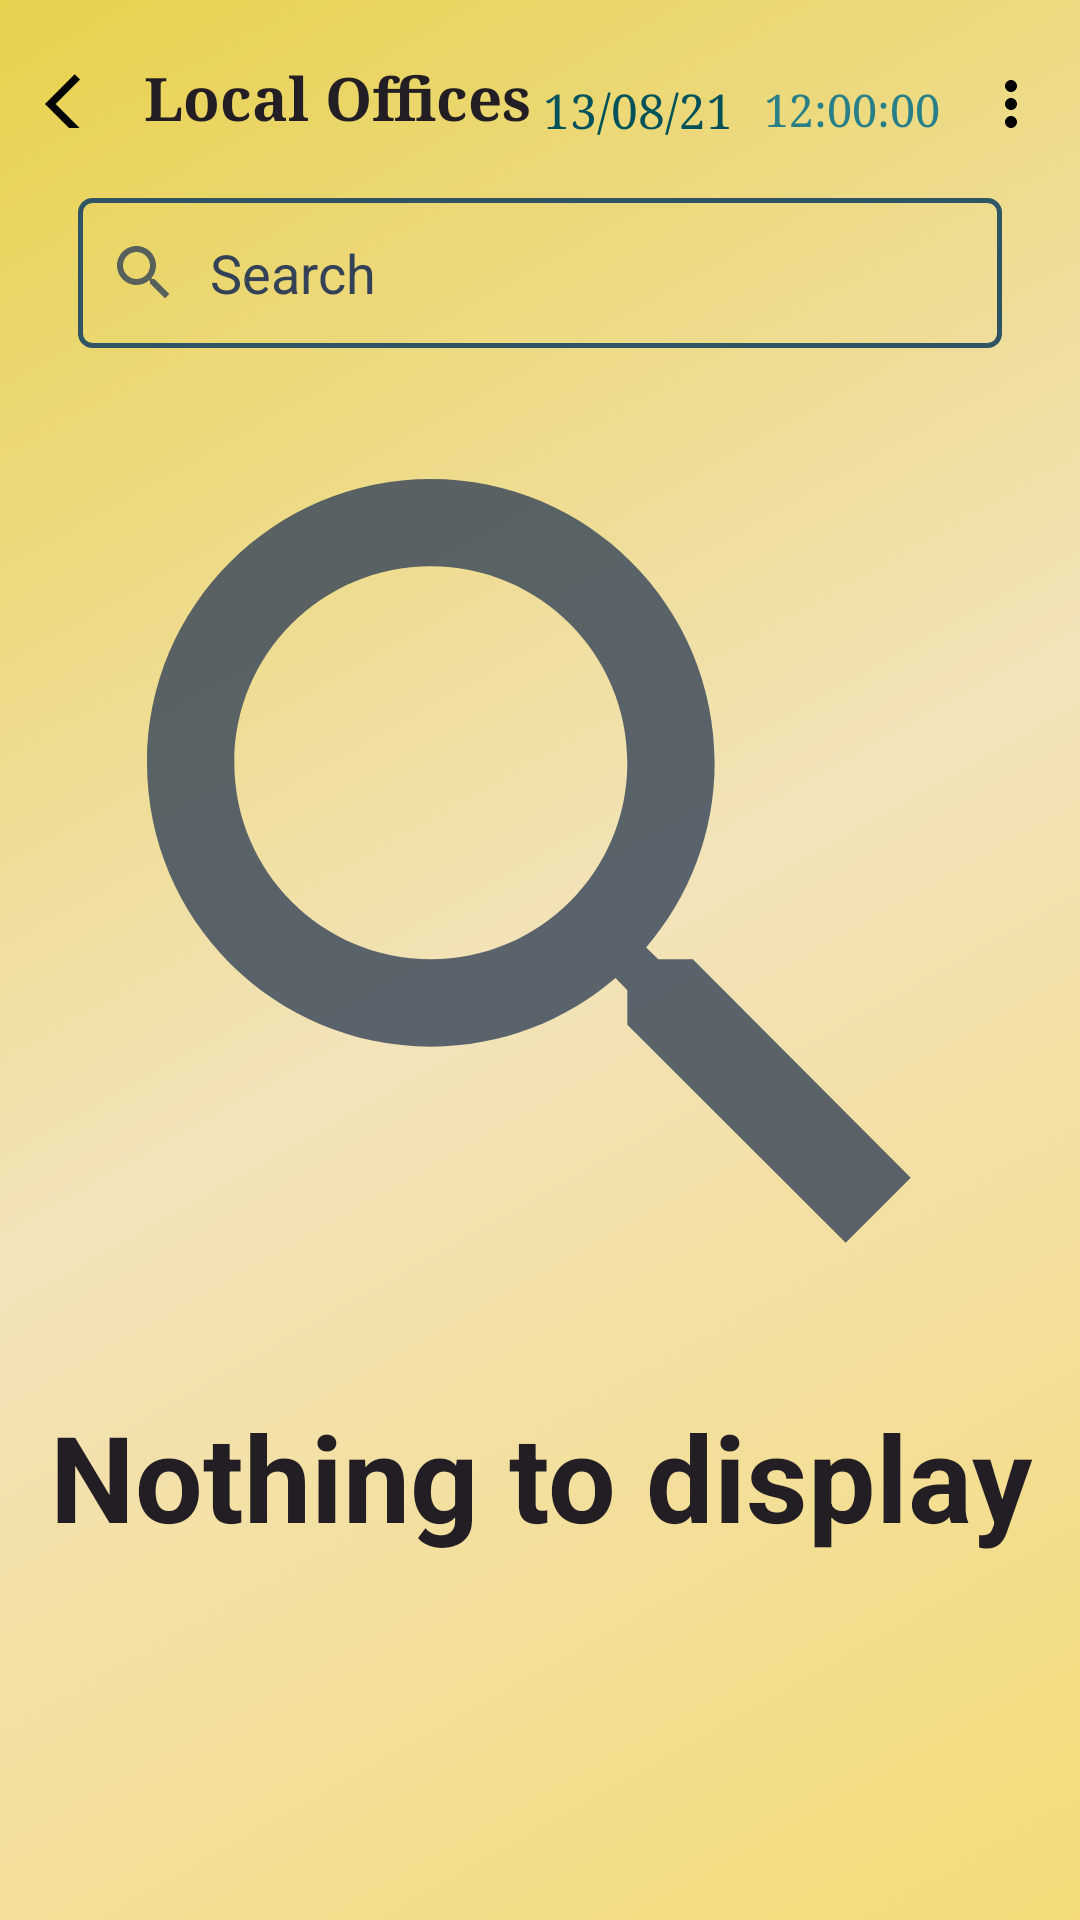

Icon click points for this 1080*1920 phone screenshot, format [x,y]:
back: [62,101]
more: [1011,104]
